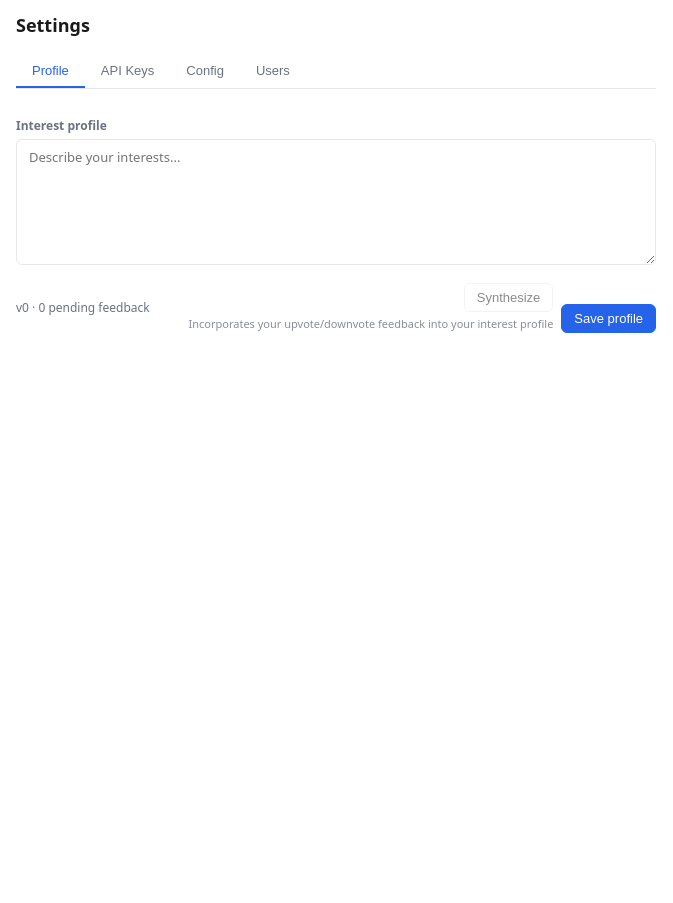
Test: SettingsView — config tab › conditional visibility › shows OIDC section when oidc IS in auth_methods
This screenshot has width=673, height=903.
Click the button with class "tab" showing "Config" at (205, 72), box x1=170 y1=55 x2=240 y2=88
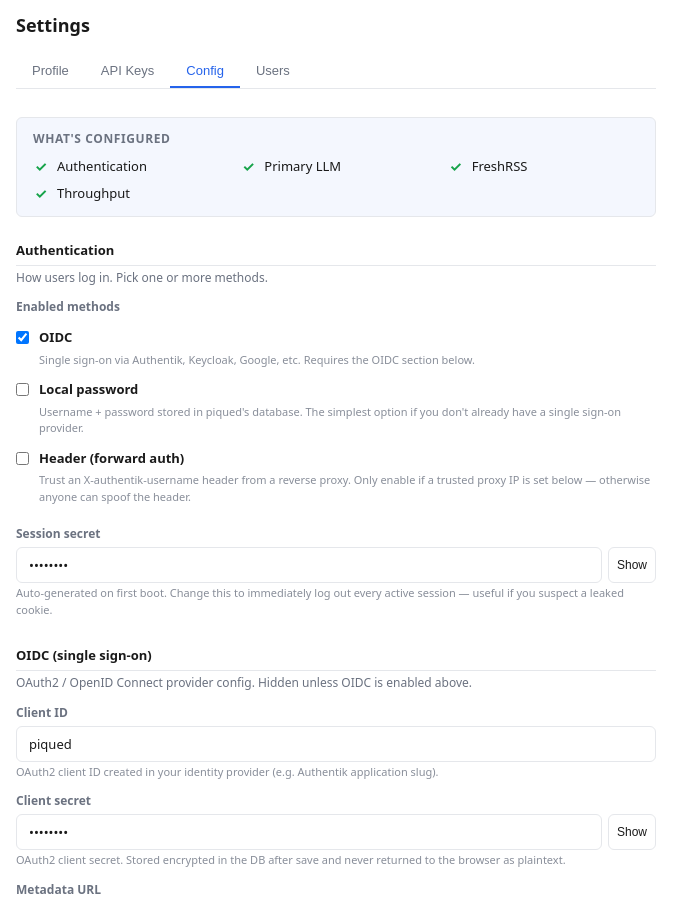
Now the element with class "config-group-title" shows "OIDC (single sign-on)", box x1=39 y1=328 x2=475 y2=368
